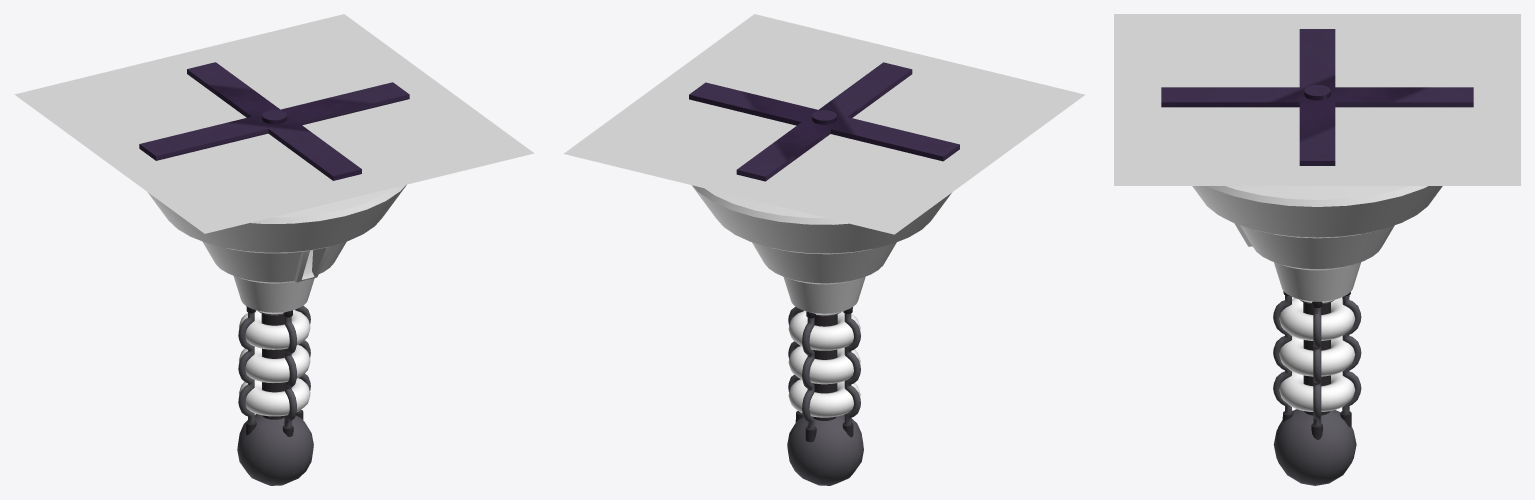
Rendered from shockdroneamalgam.fbx.
The picture shows the model from 3 angles, left to right: view 1: azimuth 30°, elevation 25°; view 2: azimuth 150°, elevation 25°; view 3: azimuth 270°, elevation 25°; orthographic projection. The views are drawn at different scales.
Visible parts, largest first — view 1: ShockDronePropeller, Main, PropellerModel.001, CoilBase, Coils; view 2: ShockDronePropeller, Main, PropellerModel.001, CoilBase, Coils; view 3: ShockDronePropeller, Main, PropellerModel.001, CoilBase, Coils.
Part boxes in pixels (left/top/right/bottom): ShockDronePropeller: left=14, top=14, right=534, bottom=233; Main: left=147, top=184, right=406, bottom=314; PropellerModel.001: left=139, top=62, right=409, bottom=180; CoilBase: left=237, top=305, right=313, bottom=485; Coils: left=238, top=310, right=310, bottom=416; ShockDronePropeller: left=563, top=14, right=1085, bottom=234; Main: left=691, top=185, right=951, bottom=315; PropellerModel.001: left=689, top=62, right=959, bottom=181; CoilBase: left=787, top=306, right=863, bottom=485; Coils: left=788, top=311, right=860, bottom=417; ShockDronePropeller: left=1114, top=14, right=1520, bottom=185; Main: left=1192, top=186, right=1442, bottom=302; PropellerModel.001: left=1161, top=29, right=1473, bottom=165; CoilBase: left=1273, top=291, right=1361, bottom=485; Coils: left=1279, top=298, right=1355, bottom=411.
Bounding box in the file's own units: 5.18 × 5.5 × 5.18.
